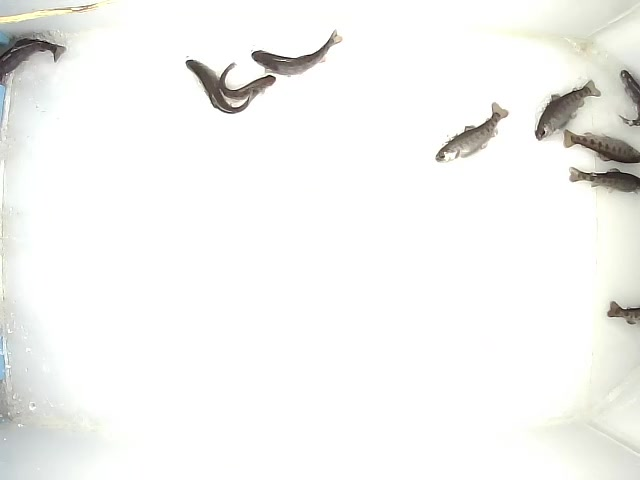fish: (433, 100, 510, 165), (250, 27, 343, 79), (184, 58, 266, 115), (533, 78, 602, 143), (1, 36, 68, 83), (562, 128, 640, 166), (216, 60, 277, 103), (568, 166, 640, 197), (618, 68, 640, 129)
